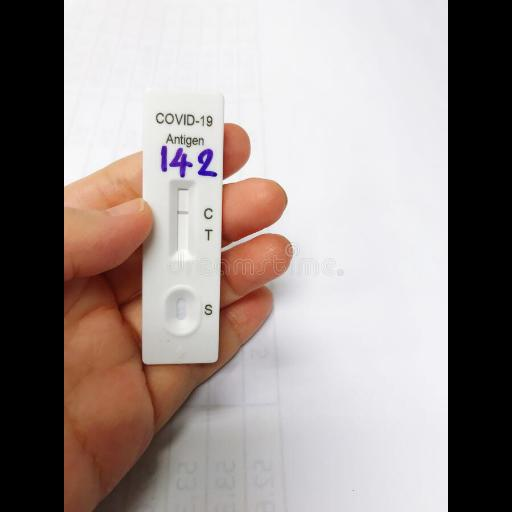Neg: (144, 89, 224, 365)
